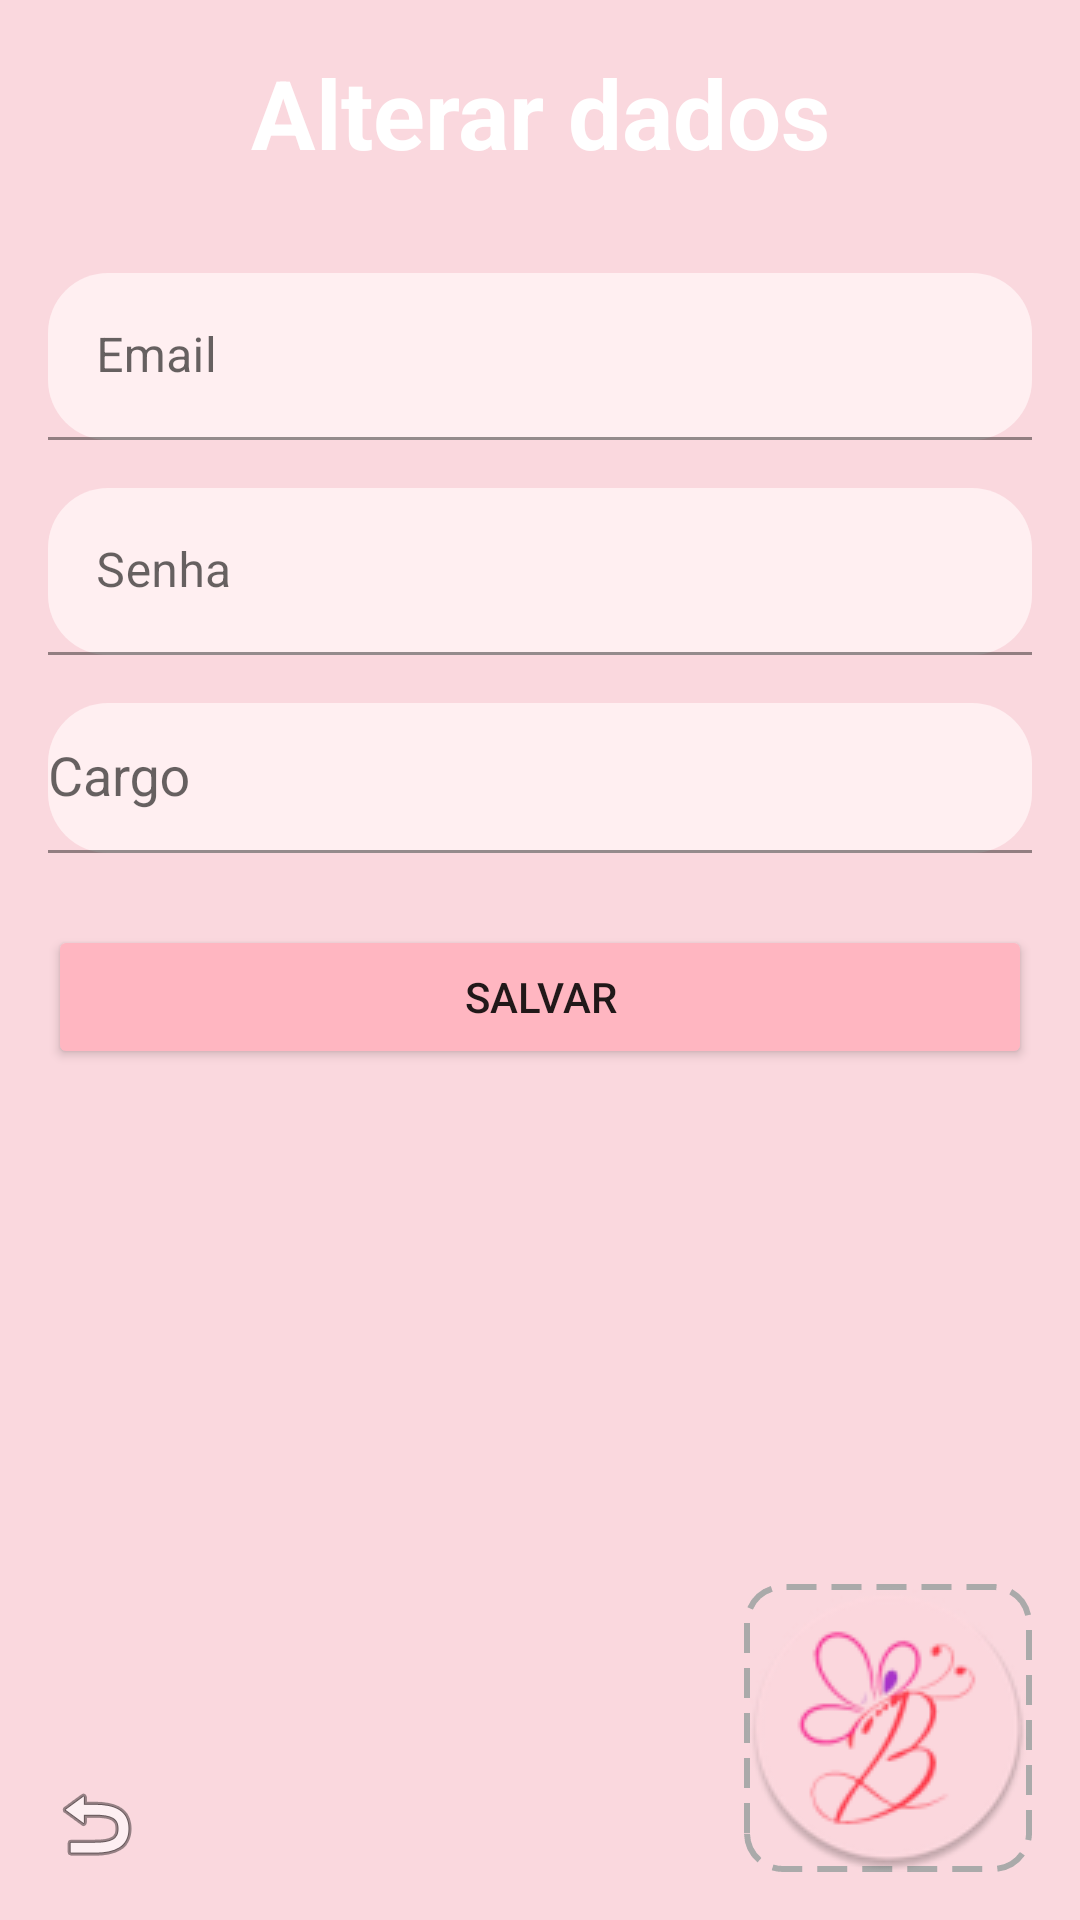

Where to tap for icons on this 1080px×1920px app screen, as (x,y):
revert: (97,1824)
